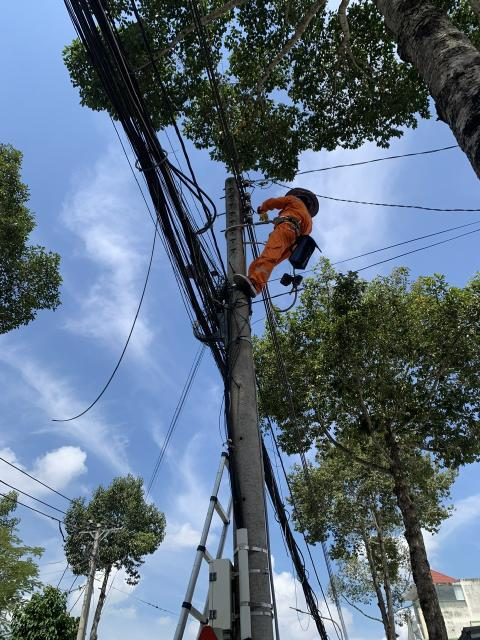gloves: (250, 207, 274, 226)
harness: (269, 212, 309, 243)
helmet: (288, 186, 328, 218)
shoes: (231, 269, 265, 300)
